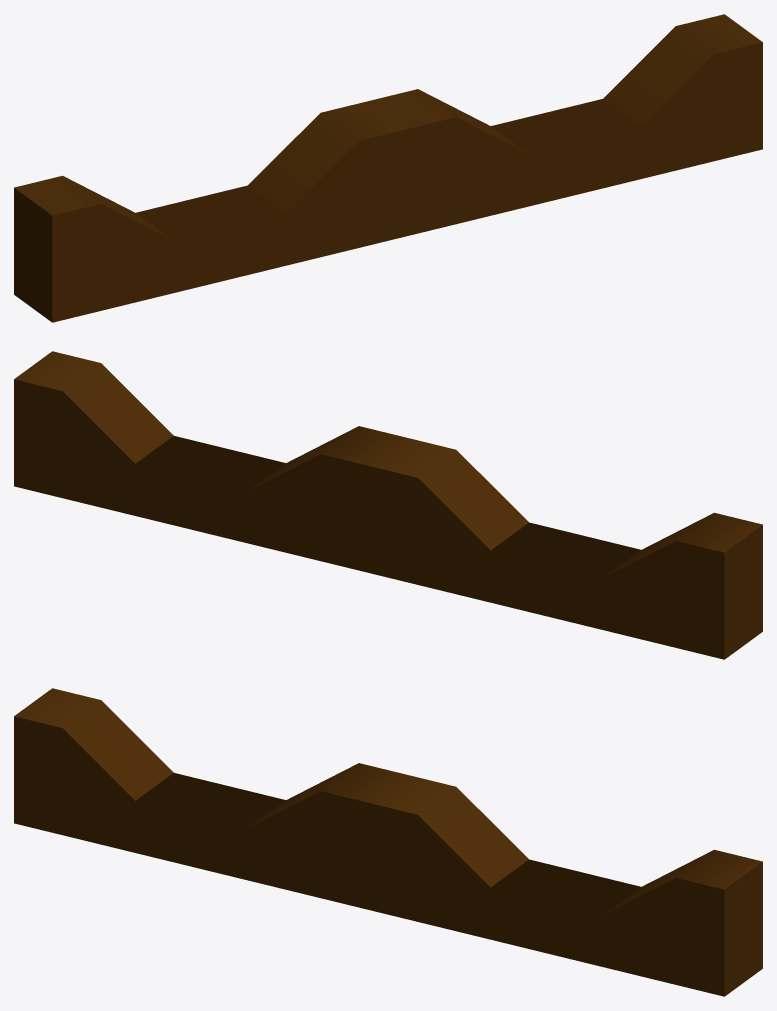
File: barrelStand.fbx
The picture shows the model from 3 angles, top to bottom: view 1: azimuth 30°, elevation 25°; view 2: azimuth 150°, elevation 25°; view 3: azimuth 330°, elevation 25°; orthographic projection.
Parts seen in each view (by area): view 1: BarrelStand; view 2: BarrelStand; view 3: BarrelStand.
Boxes of the visible parts, x1=… form: BarrelStand: x1=14, y1=14, x2=762, y2=322; BarrelStand: x1=14, y1=351, x2=762, y2=659; BarrelStand: x1=14, y1=688, x2=762, y2=996.
Size of the model in its own units: 2083 by 300 by 195.
